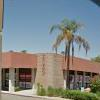Palm tree: (51, 12, 88, 69)
